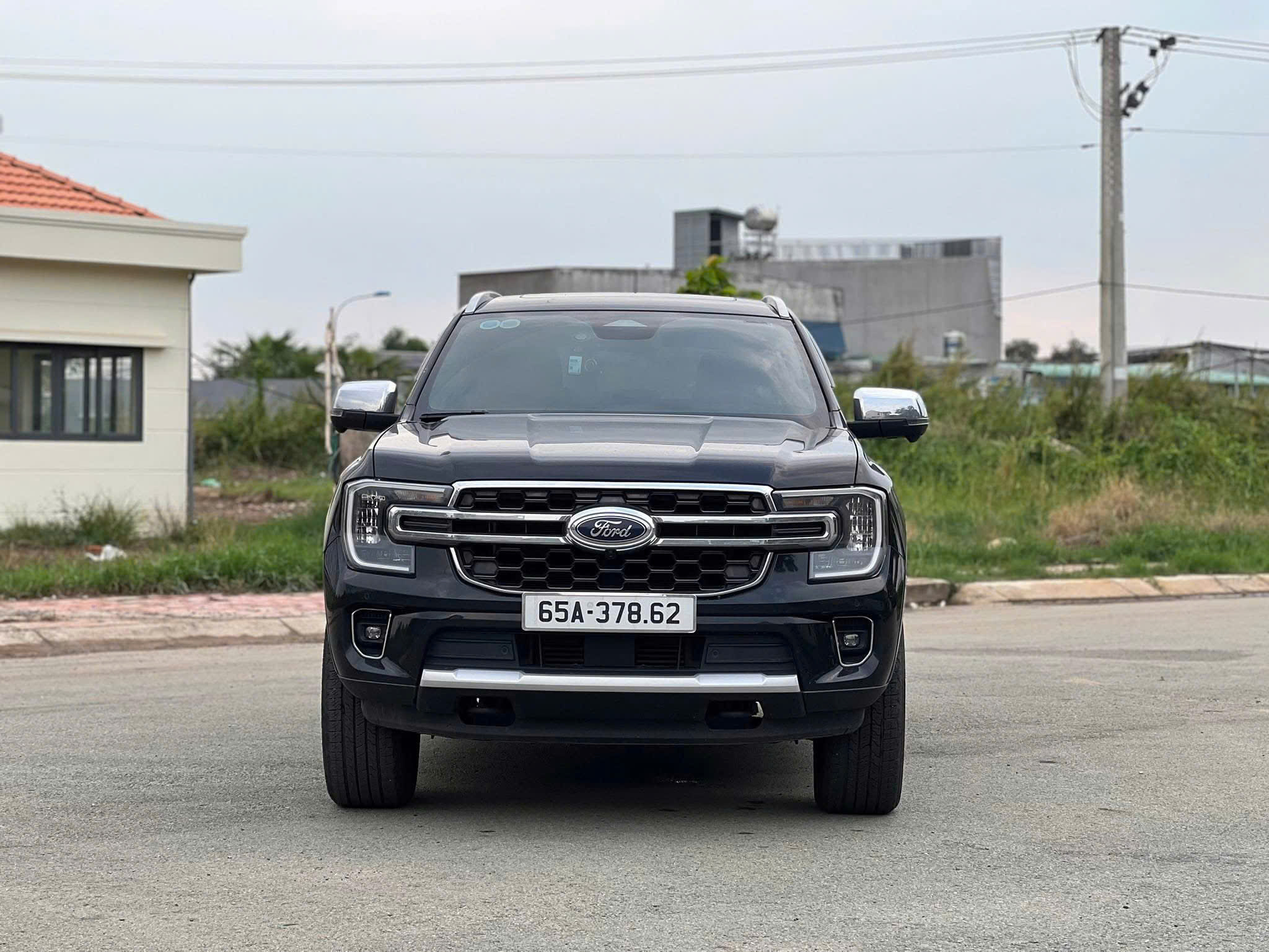Bien-so: (523, 589, 700, 636)
